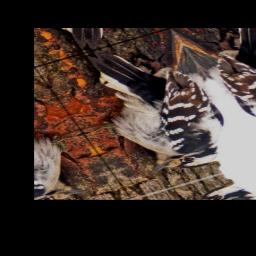Woodpecker: (36, 30, 256, 191)
